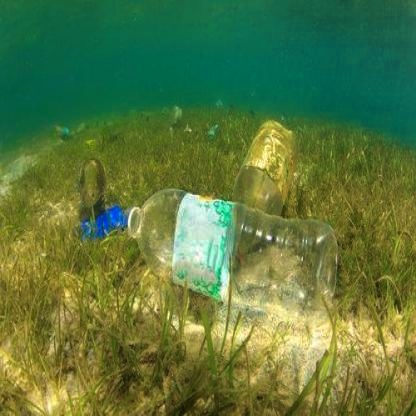pbottle: (124, 186, 338, 339), (217, 114, 302, 284)
